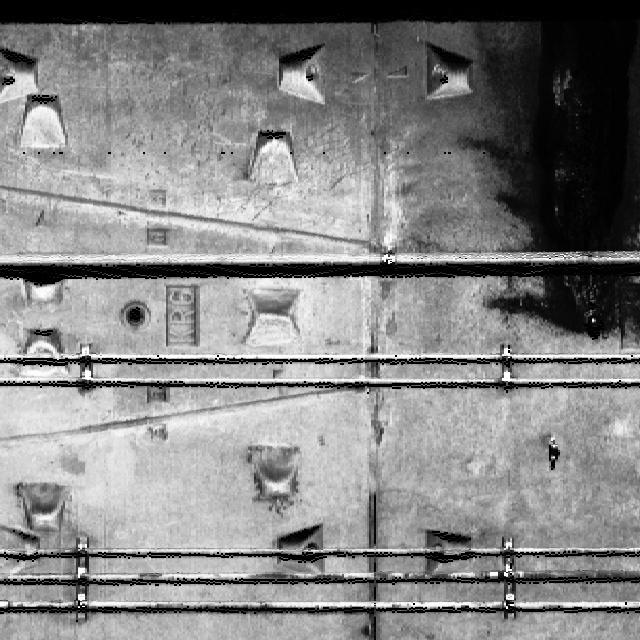leakage: (461, 0, 639, 342)
